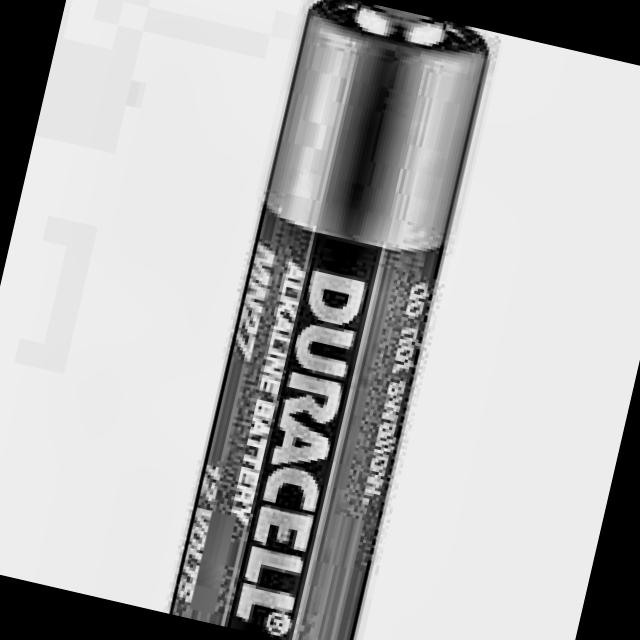Battery: (171, 0, 492, 640)
